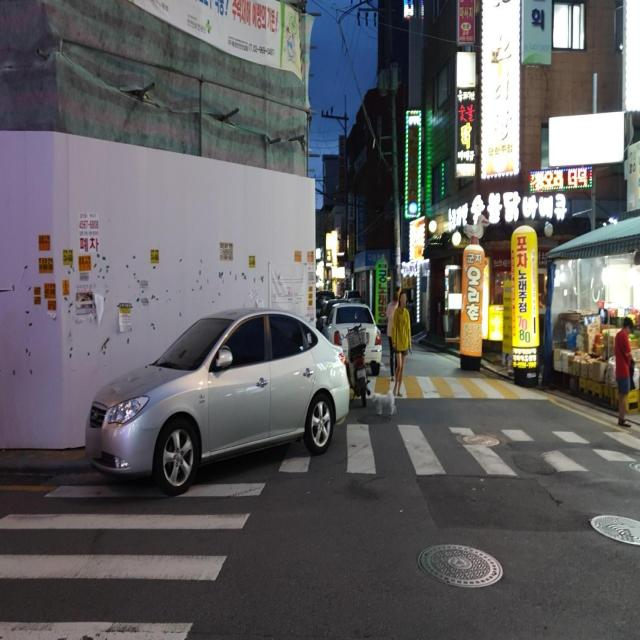횡단보도: (0, 481, 267, 640), (279, 407, 640, 472)
